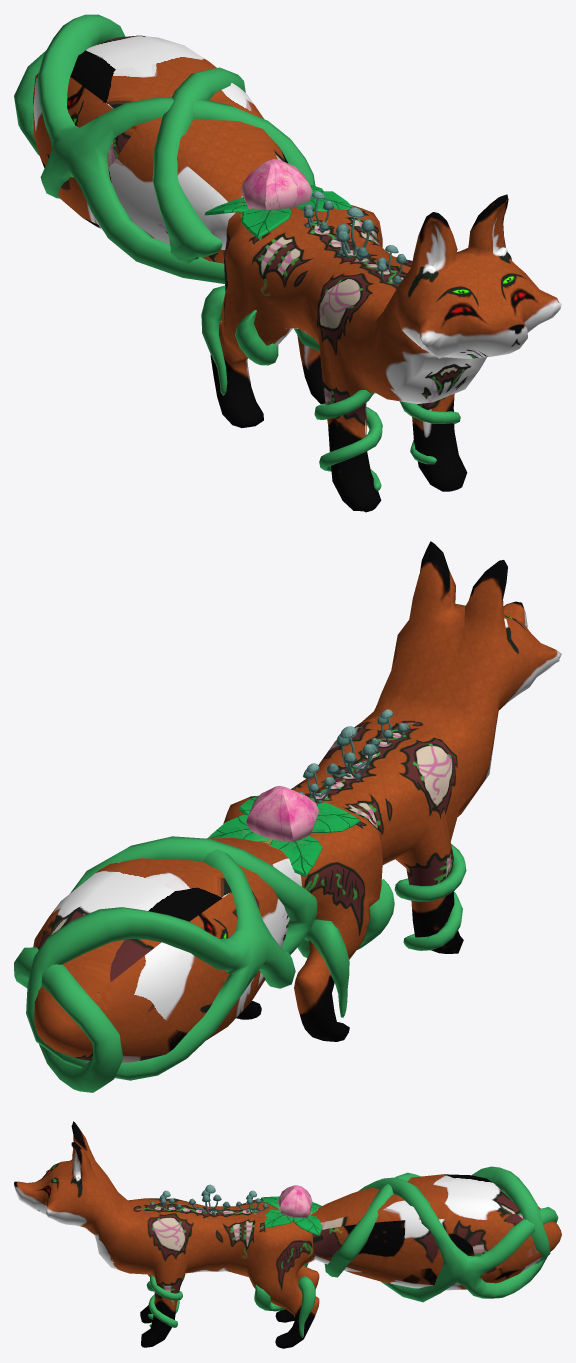
Rendered from Fox_AbbyNormal.fbx.
3 views of the same model, one above another, from view 1: azimuth 30°, elevation 25°; view 2: azimuth 150°, elevation 25°; view 3: azimuth 270°, elevation 25° (orthographic). The views are drawn at different scales.
Parts seen in each view (by area): view 1: Fox_vf_Abby, Tail_Vine_01, Tail_Vine_02, Fox_Abby_Flowers, Back_R_Leg, Front_R_Leg, Front_L_Leg, Glowing_Mushrooms3; view 2: Fox_vf_Abby, Tail_Vine_01, Tail_Vine_02, Fox_Abby_Flowers, Back_R_Leg, Front_R_Leg, Glowing_Mushrooms3; view 3: Fox_vf_Abby, Tail_Vine_02, Tail_Vine_01, Fox_Abby_Flowers, Back_L_Leg, Front_L_Leg, Glowing_Mushrooms3.
Part boxes in pixels (box(x1,y1,x2,y2)): Fox_vf_Abby: box(33, 35, 561, 512); Tail_Vine_01: box(37, 14, 315, 283); Tail_Vine_02: box(14, 51, 245, 263); Fox_Abby_Flowers: box(204, 159, 353, 238); Back_R_Leg: box(201, 285, 278, 395); Front_R_Leg: box(314, 390, 382, 491); Front_L_Leg: box(399, 401, 460, 464); Glowing_Mushrooms3: box(335, 207, 375, 261); Fox_vf_Abby: box(33, 541, 561, 1062); Tail_Vine_01: box(26, 849, 295, 1080); Tail_Vine_02: box(14, 836, 317, 1092); Fox_Abby_Flowers: box(208, 786, 360, 876); Back_R_Leg: box(298, 879, 394, 1017); Front_R_Leg: box(394, 844, 466, 950); Glowing_Mushrooms3: box(326, 726, 378, 779); Fox_vf_Abby: box(14, 1121, 561, 1348); Tail_Vine_02: box(358, 1177, 558, 1302); Tail_Vine_01: box(324, 1166, 550, 1277); Fox_Abby_Flowers: box(261, 1185, 322, 1235); Back_L_Leg: box(254, 1276, 315, 1337); Front_L_Leg: box(148, 1274, 182, 1327); Glowing_Mushrooms3: box(188, 1184, 230, 1214).
Size of the model in its own units: 2.82 by 4.7 by 11.54.
